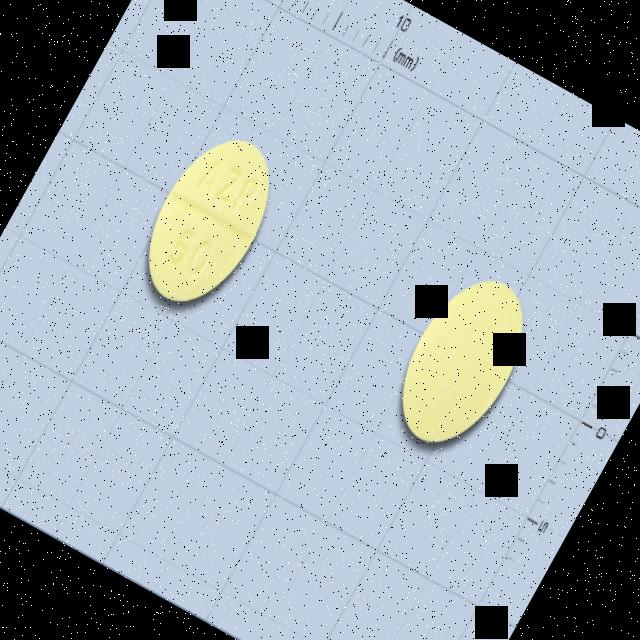Teva Azathioprine Tab: (124, 121, 294, 323)
